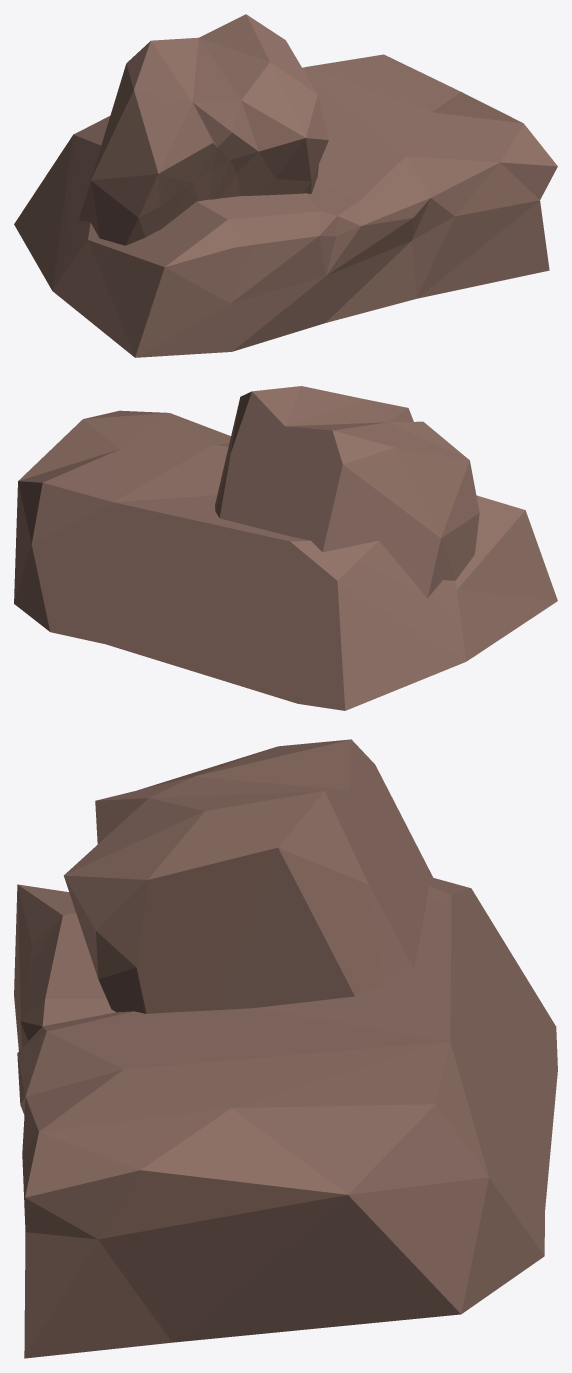
Rendered from rock_002.fbx.
3 renders of one model, top to bottom at view 1: azimuth 30°, elevation 25°; view 2: azimuth 150°, elevation 25°; view 3: azimuth 270°, elevation 25°, orthographic. The views are drawn at different scales.
Visible parts, largest first — view 1: rock.002; view 2: rock.002; view 3: rock.002.
Part boxes in pixels (<box>): rock.002: <box>14,14,557,357</box>; rock.002: <box>14,386,557,710</box>; rock.002: <box>14,739,557,1358</box>.
Bounding box in the file's own units: 3095 × 1704 × 2072.
Materials: 1 (1 with a texture image).
